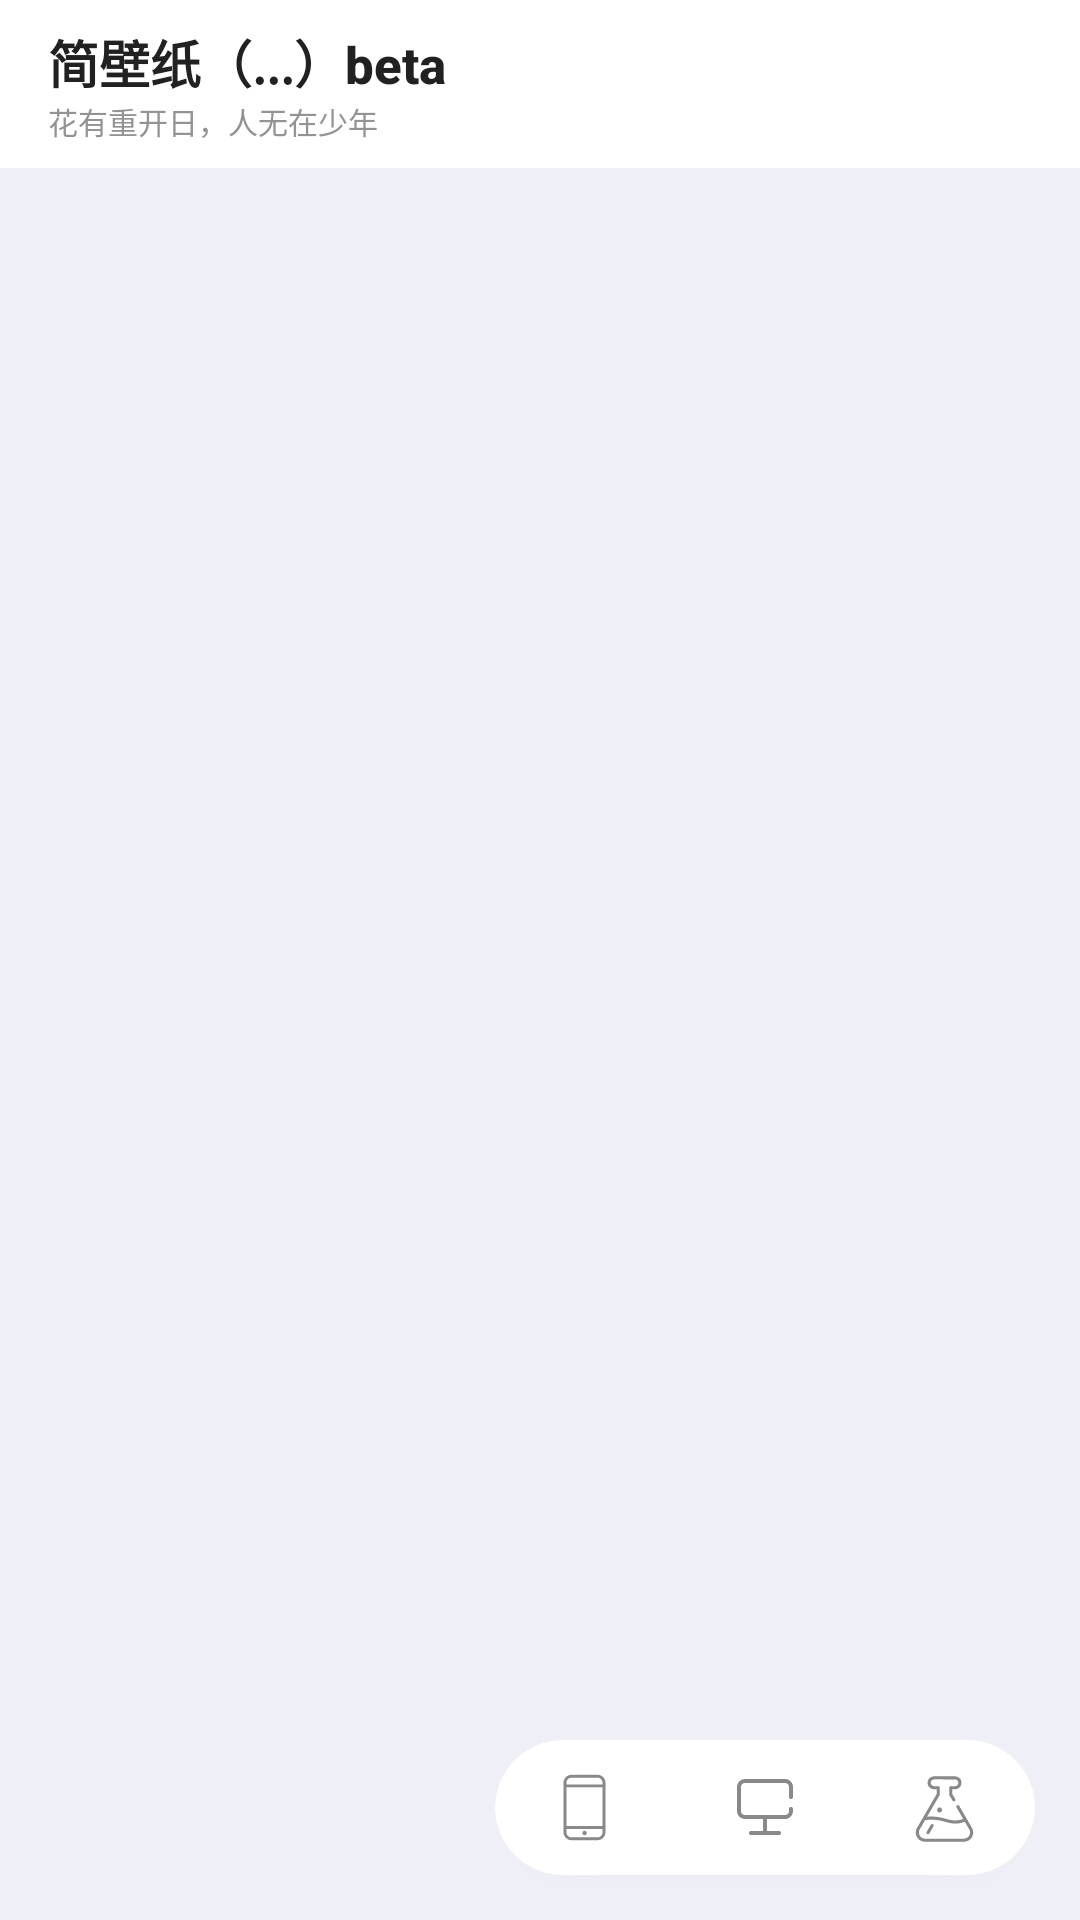

Named icons in this screenshot (1080×1920) and their centers, (x,y):
experiment: (944,1809)
phone: (584,1807)
